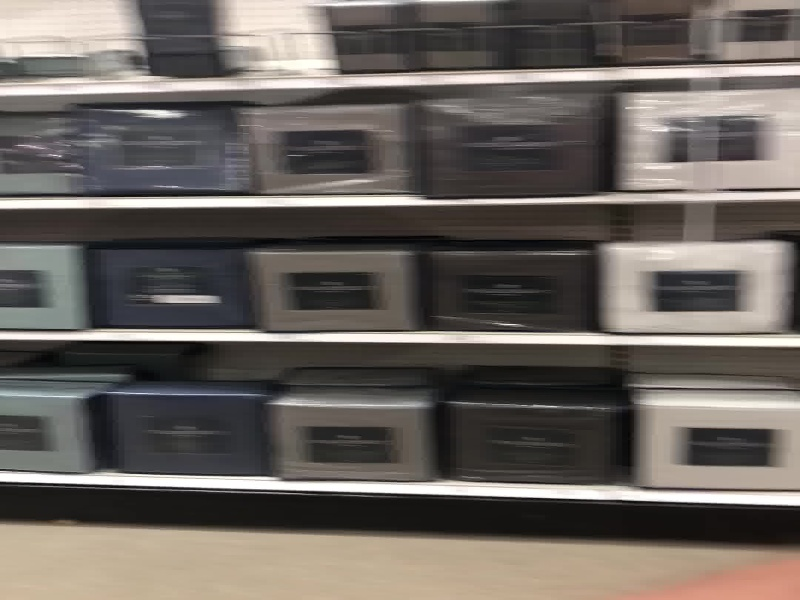void: (227, 1, 333, 77)
